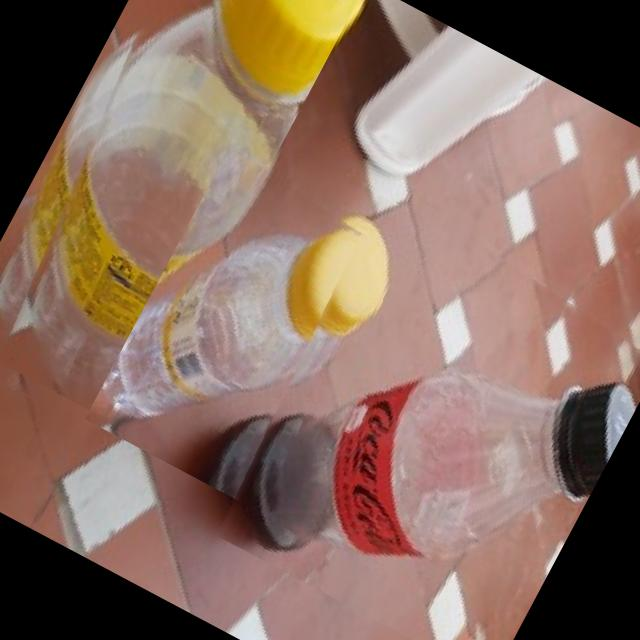plastic bottle: (200, 181, 640, 640), (0, 0, 365, 431), (84, 145, 415, 517)
